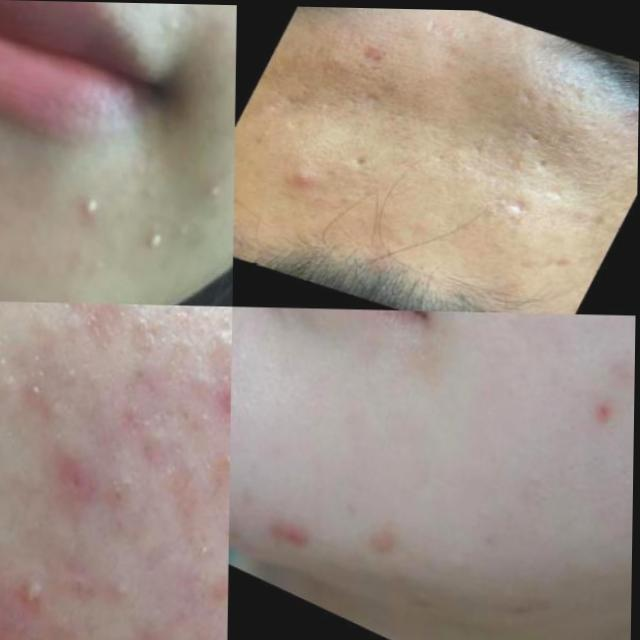8: (543, 349, 636, 484), (42, 442, 105, 517), (273, 159, 324, 203)
9: (0, 551, 54, 619), (127, 208, 180, 269), (68, 181, 115, 230)
blackheads: (251, 502, 328, 576), (353, 508, 414, 585), (327, 141, 386, 191), (341, 83, 393, 133), (488, 186, 537, 230), (515, 147, 561, 178)
dark spot: (55, 559, 100, 615)
